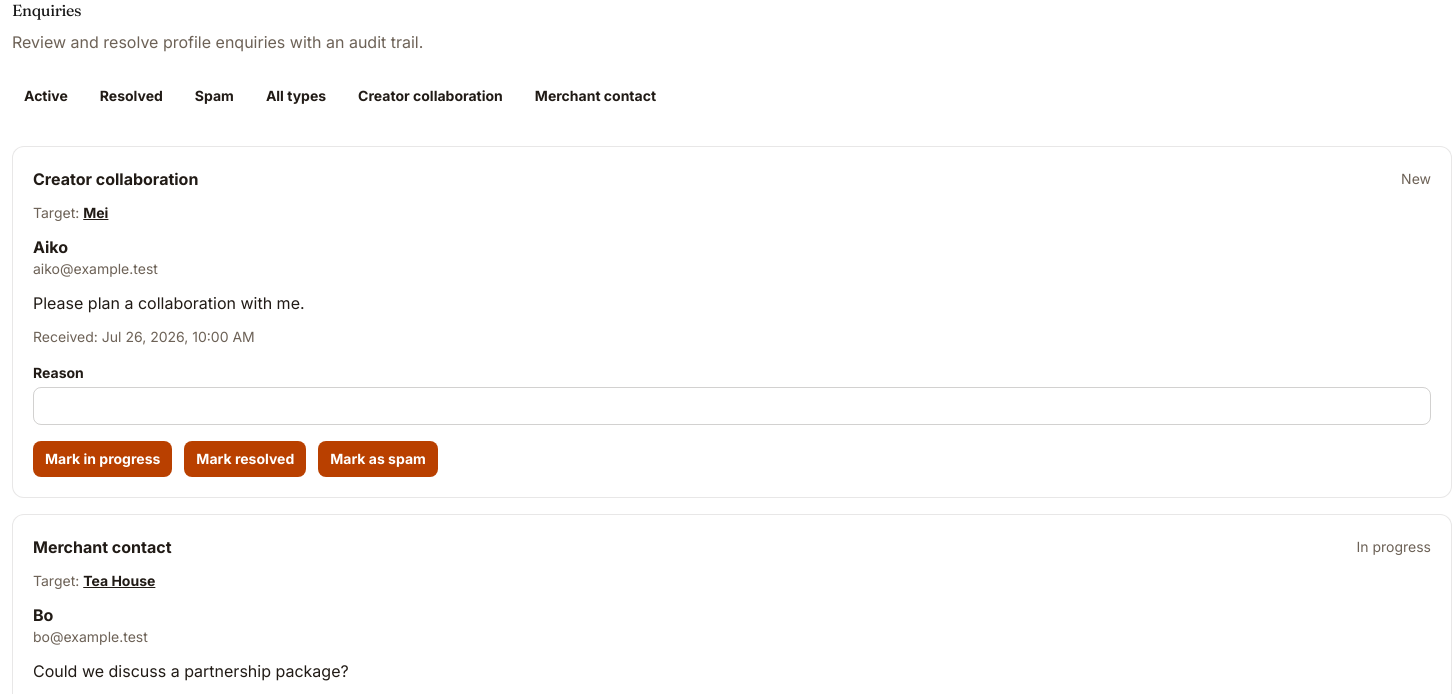
Test: AdminEnquiriesView › requires a reason before terminal and reopen transitions
The image size is (1452, 694).
Click the button "Mark resolved" at (245, 459), box x1=184 y1=441 x2=306 y2=477
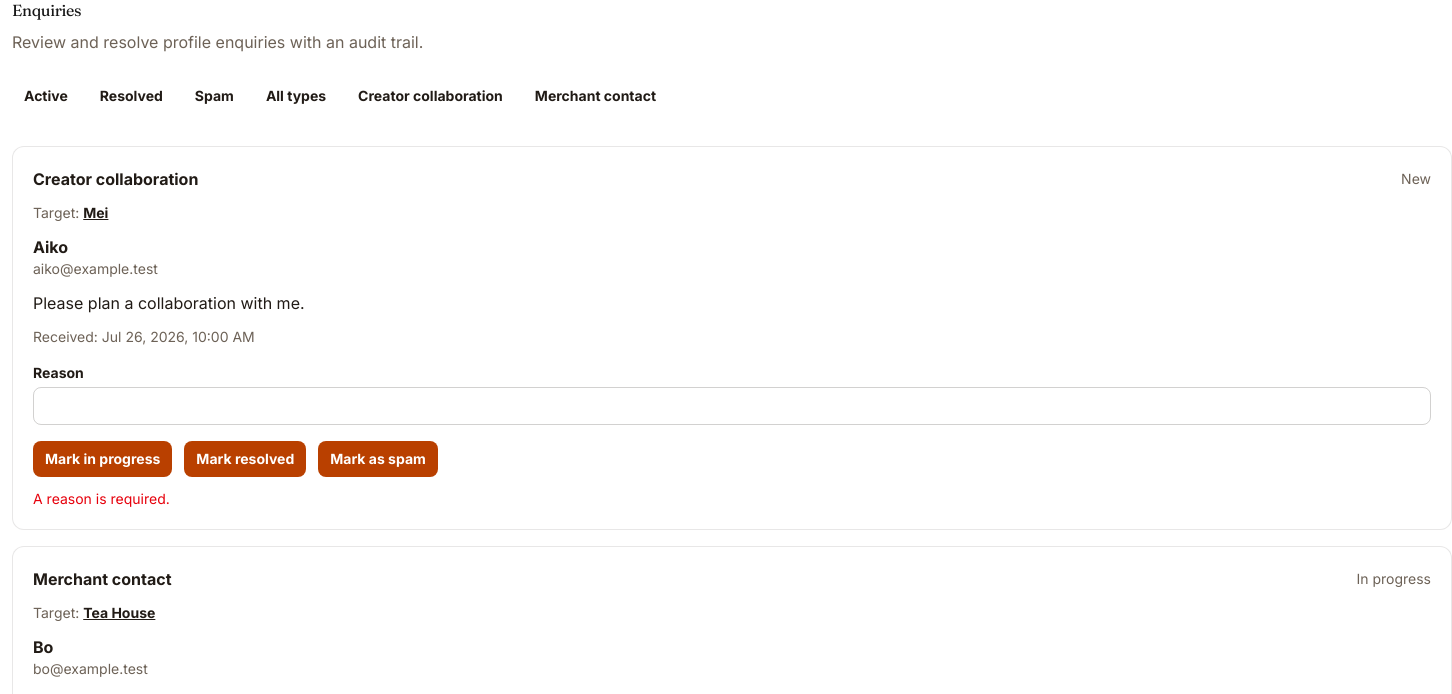
Expected: the text "A reason is required." is shown, x1=33 y1=490 x2=170 y2=507
Type "Handled by ops" into the field labelled "Reason" below "Jul 26, 2026, 10:00 AM" at (732, 406), box x1=33 y1=387 x2=1431 y2=425
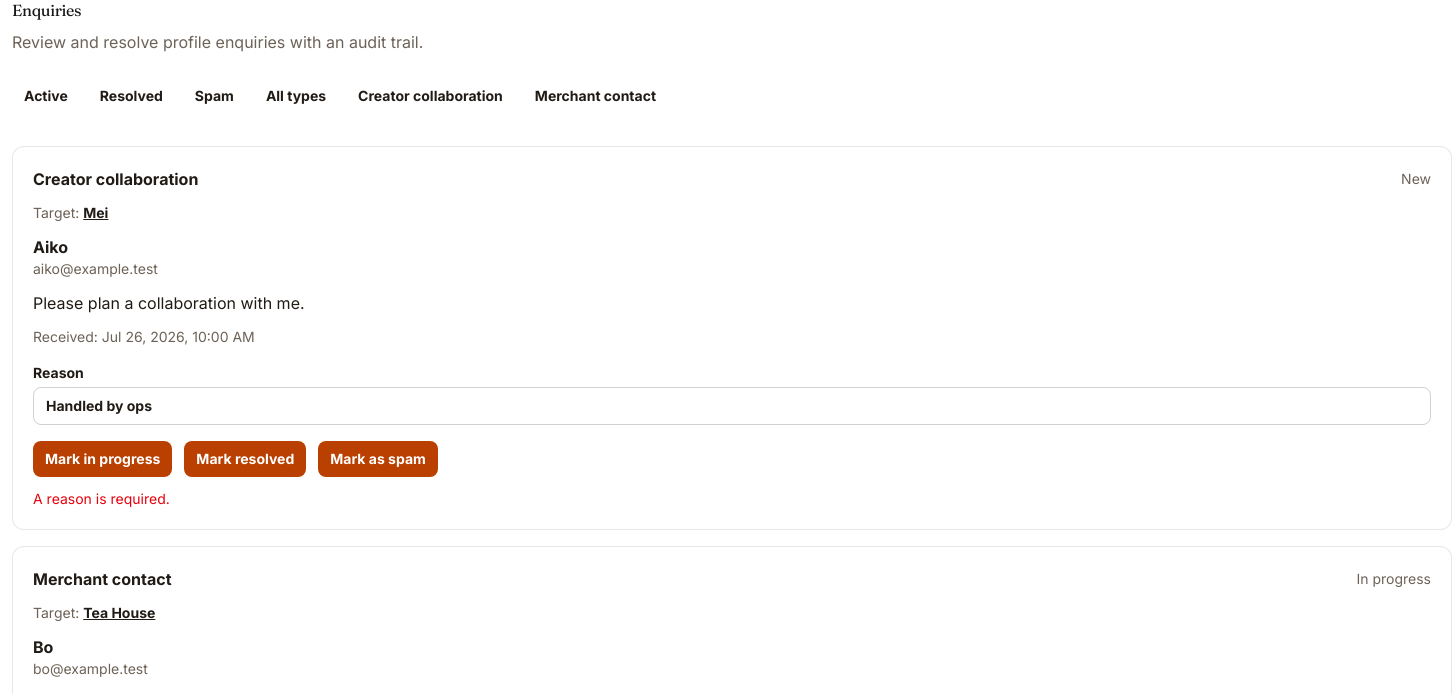
Click the button "Mark resolved" at (245, 459), box x1=184 y1=441 x2=306 y2=477
(page scrolled)
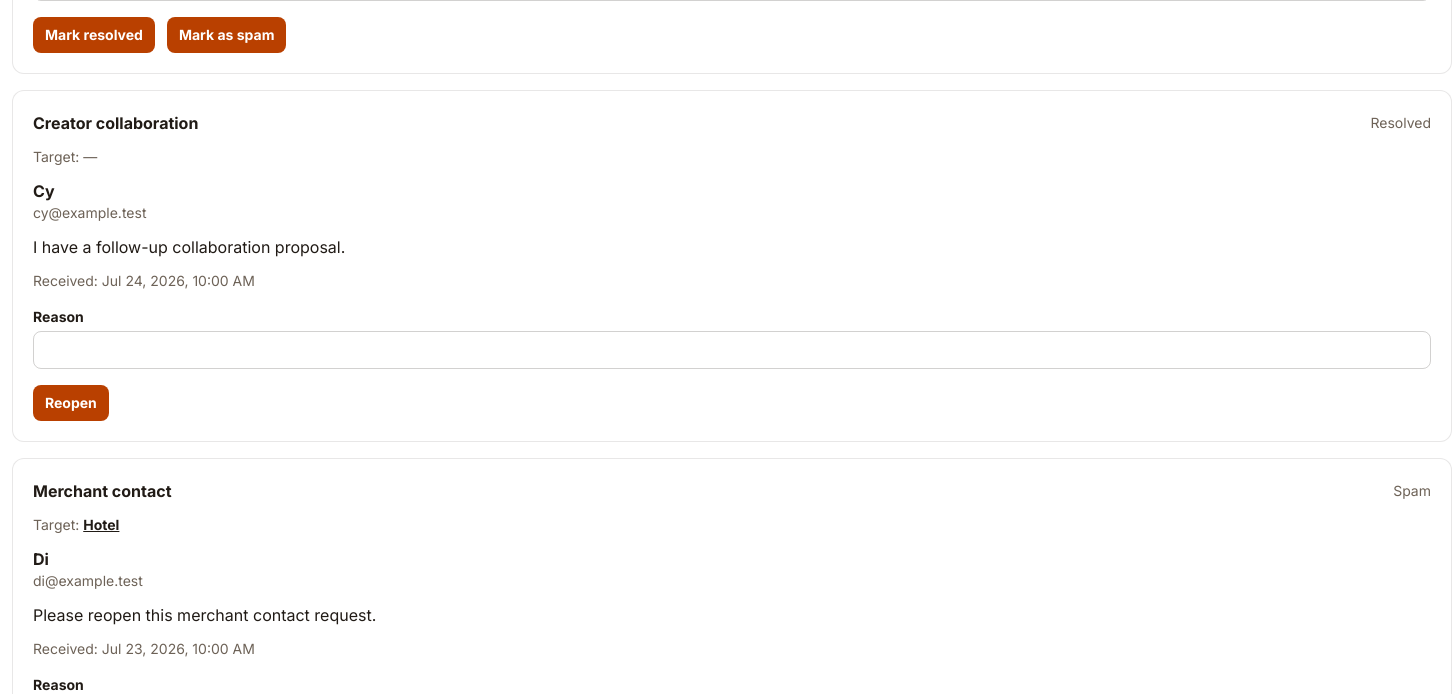
Click the button "Reopen" below "Jul 24, 2026, 10:00 AM" at (71, 403), box x1=33 y1=385 x2=109 y2=421
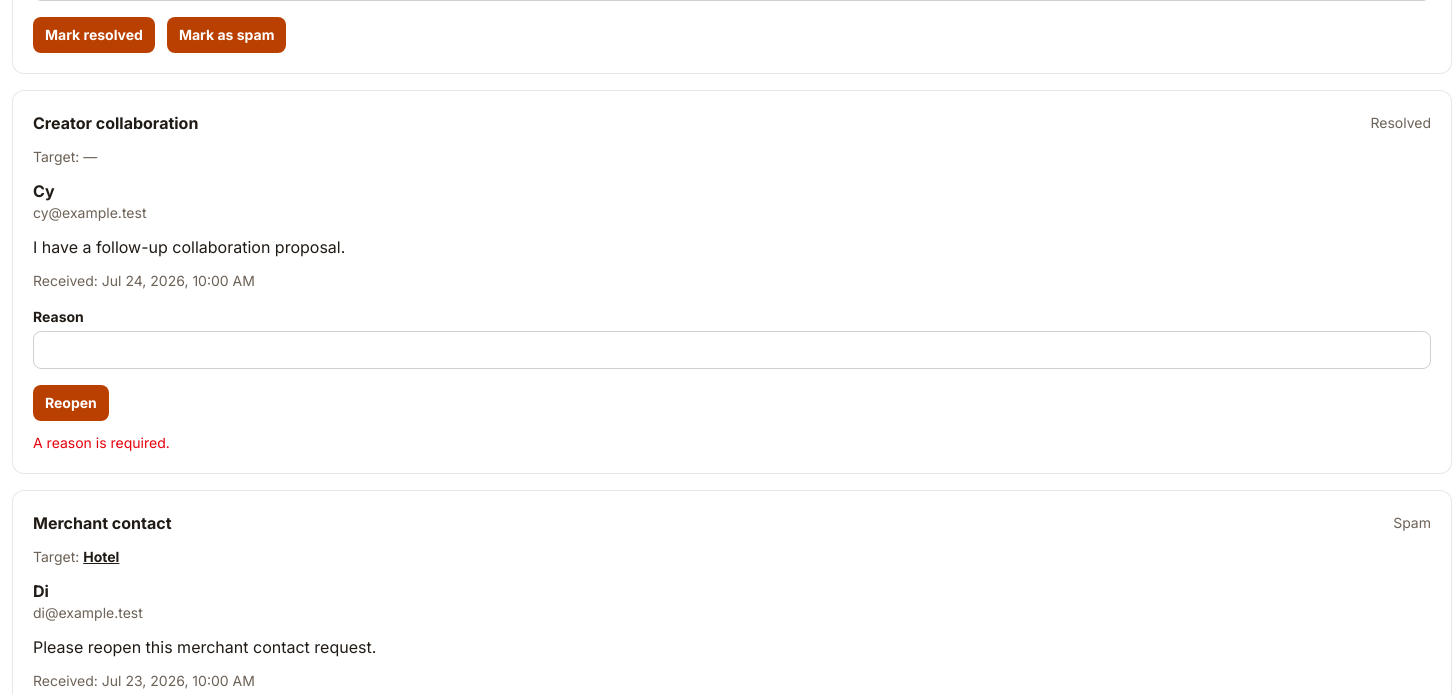
Expected: the text "A reason is required." is shown, x1=33 y1=434 x2=170 y2=451
